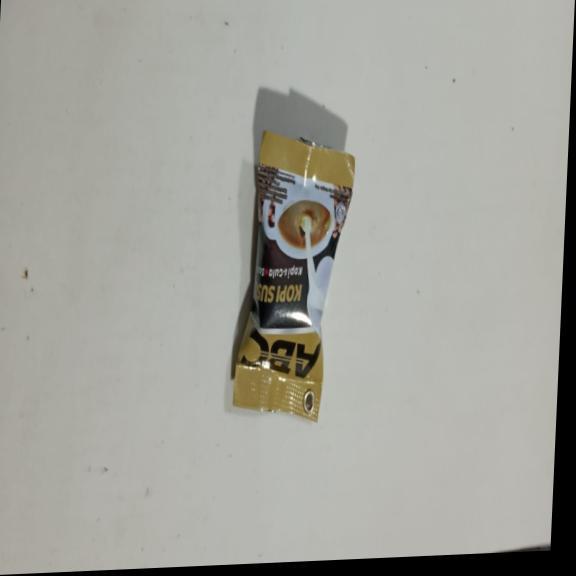Plastik: (230, 124, 356, 425)
